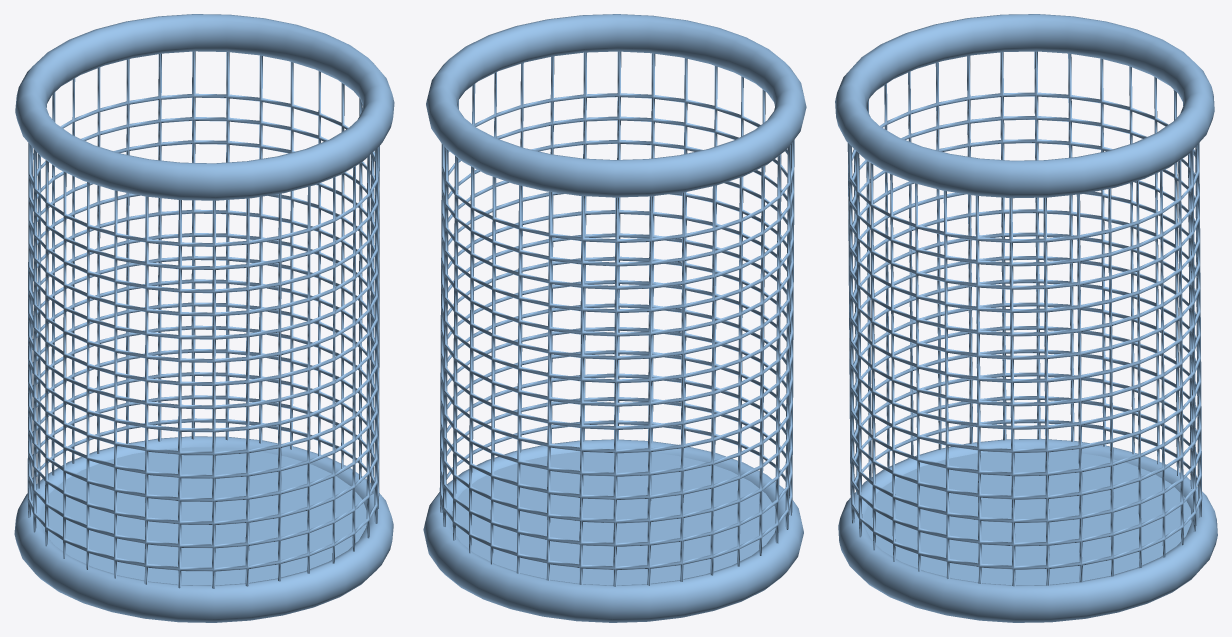
Rendered from trash_can.glb.
The picture shows the model from 3 angles, left to right: view 1: azimuth 30°, elevation 25°; view 2: azimuth 150°, elevation 25°; view 3: azimuth 270°, elevation 25°; orthographic projection.
Visible parts, largest first — view 1: PencilCase; view 2: PencilCase; view 3: PencilCase.
Boxes of the visible parts, <box> form: PencilCase: <box>14,14,394,622</box>; PencilCase: <box>423,14,806,622</box>; PencilCase: <box>835,14,1217,622</box>.
Bounding box in the file's own units: 0.09 × 0.1206 × 0.0905.
